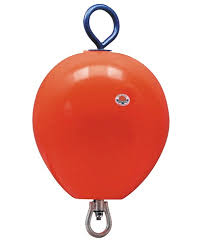buoy: (34, 50, 170, 202)
